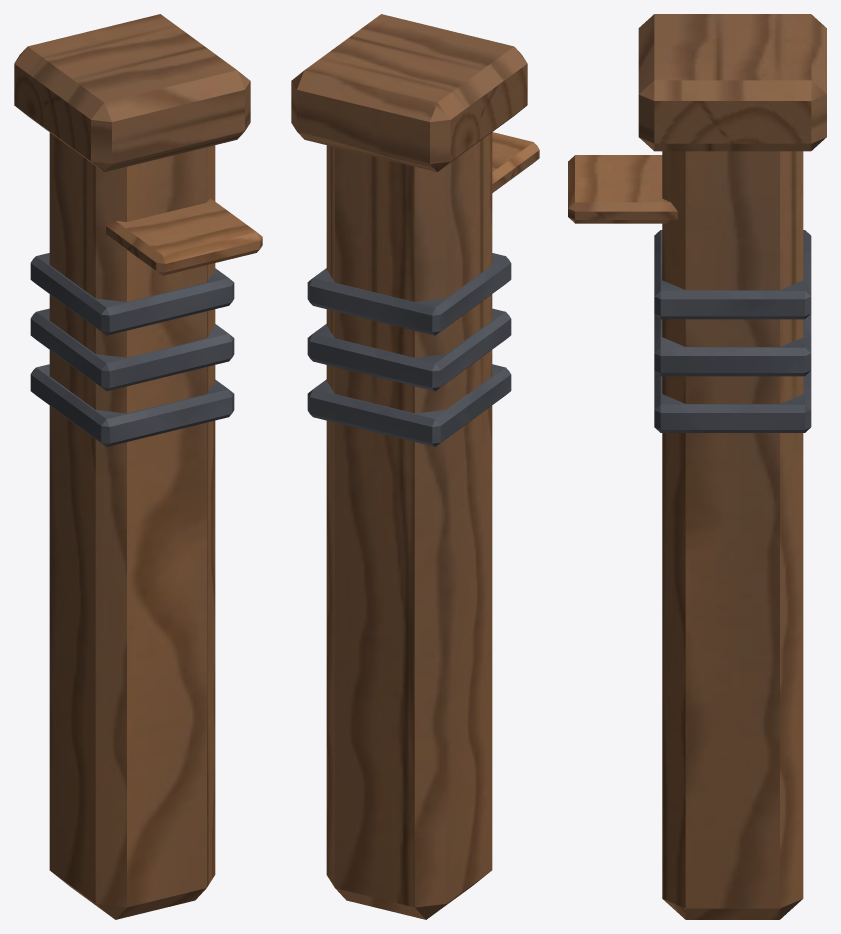
Rendered from baglama_diregi.glb.
3 views of the same model, side by side, from view 1: azimuth 30°, elevation 25°; view 2: azimuth 150°, elevation 25°; view 3: azimuth 270°, elevation 25° (orthographic). The views are drawn at different scales.
Visible parts, largest first — view 1: baglama_diregi; view 2: baglama_diregi; view 3: baglama_diregi.
Boxes of the visible parts, x1,y1,x2,y2 form: baglama_diregi: (14,14,262,919); baglama_diregi: (291,14,539,919); baglama_diregi: (568,14,826,919).
Size of the model in its own units: 0.24 by 1.2 by 0.33.
1 material, 1 textured.
